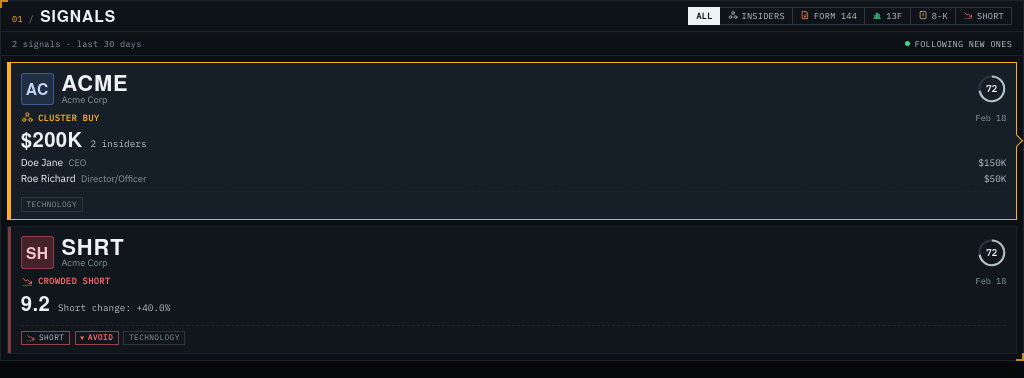
source signals on screen › filters the feed with the source chips, then the type chips
Check: the number of list items is 2, box [7,62,1017,220]; [7,226,1017,354]
Click the button "Short". click: click(984, 16)
box: [955,7,1012,26]
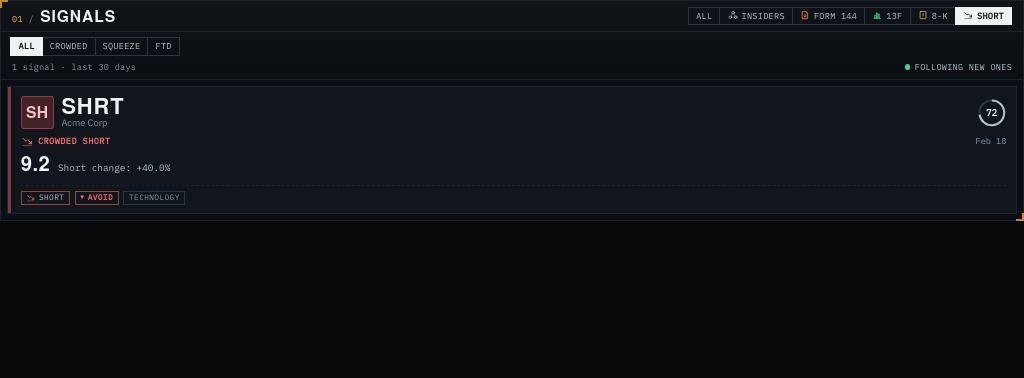
Check: the text "SHRT" is shown, box [61,90,124,122]
Check: the number of list items is 1, box [7,86,1017,214]
Click the button "FTD". click: click(164, 46)
box: [148,37,180,56]
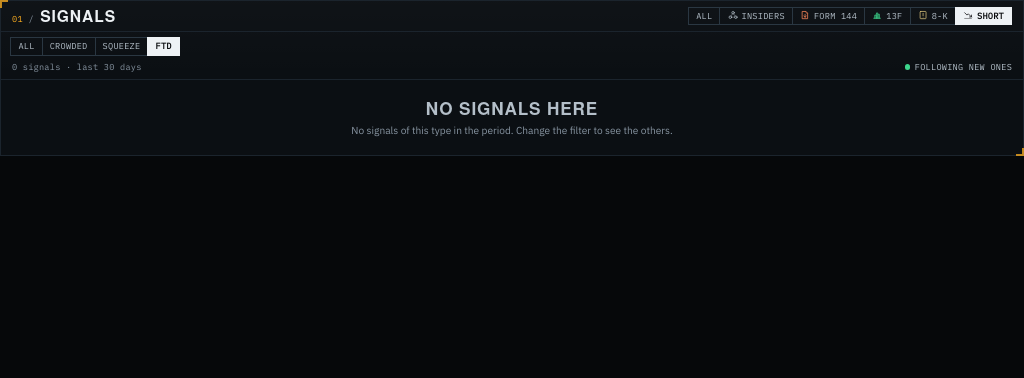
Check: the text "No signals here" is shown, box [426,96,598,120]
